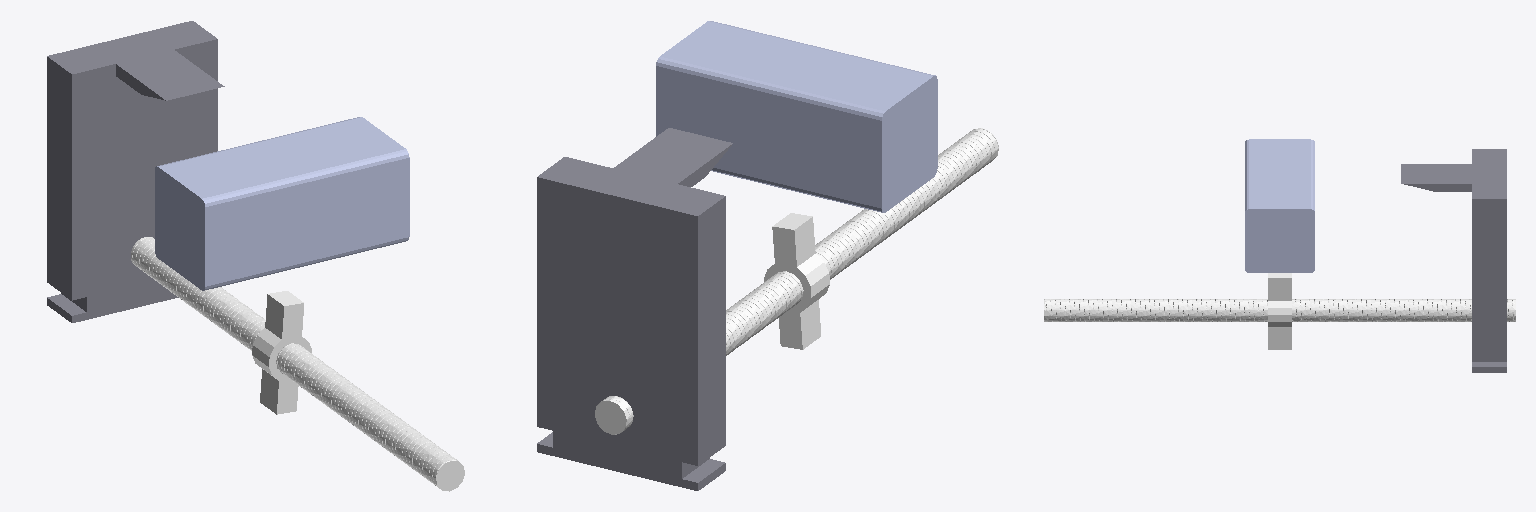
The robot description file, URDF, robot "solidworks2ros_try17":
<?xml version="1.0" encoding="utf-8"?>
<!-- This URDF was automatically created by SolidWorks to URDF Exporter! Originally created by [author] ([email redacted]) 
     Commit Version: 1.6.0-4-g7f85cfe  Build Version: 1.6.7995.38578
     For more information, please see http://wiki.ros.org/sw_urdf_exporter -->
<robot
  name="solidworks2ros_try17">

   <link name="dummy"> 
  </link>

  <joint name="dummy_joint" type="fixed">
     <parent link="dummy"/>
     <child link="base_link"/>
  </joint>

  <link
    name="base_link">
    <inertial>
      <origin
        xyz="-1.11022302462516E-16 -9.99200722162641E-16 -0.268065776195721"
        rpy="0 0 0" />
      <mass
        value="675.676354015462" />
      <inertia
        ixx="2906.45536818695"
        ixy="-2.49082720609635E-13"
        ixz="2.24838349026209E-15"
        iyy="171.801722309838"
        iyz="-5.28275357644749E-14"
        izz="2995.67094438191" />
    </inertial>
    <visual>
      <origin
        xyz="0 0 0"
        rpy="0 0 0" />
      <geometry>
        <mesh
          filename="package://solidworks2ros_try17/meshes/base_link.STL" />
      </geometry>
      <material
        name="">
        <color
          rgba="1 0.72156862745098 0.329411764705882 1" />
      </material>
    </visual>
    <collision>
      <origin
        xyz="0 0 0"
        rpy="0 0 0" />
      <geometry>
        <mesh
          filename="package://solidworks2ros_try17/meshes/base_link.STL" />
      </geometry>
    </collision>
  </link>

  <link
    name="link_1">
    <inertial>
      <origin
        xyz="1.0193E-06 -1.4866E-05 2.0052E-06"
        rpy="0 0 0" />
      <mass
        value="295.71" />
      <inertia
        ixx="555.34"
        ixy="0.0012762"
        ixz="-0.17546"
        iyy="4.9602"
        iyz="-0.0015905"
        izz="553.01" />
    </inertial>
    <visual>
      <origin
        xyz="0 0 0"
        rpy="0 0 0" />
      <geometry>
        <mesh
          filename="package://solidworks2ros_try17/meshes/link_1.STL" />
      </geometry>
      <material
        name="">
        <color
          rgba="1 1 1 1" />
      </material>
    </visual>
    <collision>
      <origin
        xyz="0 0 0"
        rpy="0 0 0" />
      <geometry>
        <mesh
          filename="package://solidworks2ros_try17/meshes/link_1.STL" />
      </geometry>
    </collision>
  </link>

  <joint
    name="joint_1"
    type="revolute">
    <origin
      xyz="0 0 0"
      rpy="0 0 0" />
    <parent
      link="base_link" />
    <child
      link="link_1" />
    <axis
      xyz="0 -1 0" />
    <limit
      lower="0"
      upper="100"
      effort="100"
      velocity="1" />
  </joint>

  <link
    name="link_2">
    <inertial>
      <origin
        xyz="2.22044604925031E-16 0.0144429352939528 0.639165613474218"
        rpy="0 0 0" />
      <mass
        value="996.534636276804" />
      <inertia
        ixx="366.741613587797"
        ixy="3.60078673400891"
        ixz="7.12110556160863"
        iyy="484.634007222512"
        iyz="-6.87482184498944"
        izz="150.154449883362" />
    </inertial>
    <visual>
      <origin
        xyz="0 0 0"
        rpy="0 0 0" />
      <geometry>
        <mesh
          filename="package://solidworks2ros_try17/meshes/link_2.STL" />
      </geometry>
      <material
        name="">
        <color
          rgba="0.588235294117647 0.588235294117647 0.631372549019608 1" />
      </material>
    </visual>
    <collision>
      <origin
        xyz="0 0 0"
        rpy="0 0 0" />
      <geometry>
        <mesh
          filename="package://solidworks2ros_try17/meshes/link_2.STL" />
      </geometry>
    </collision>
  </link>

  <joint
    name="joint_2"
    type="prismatic">
    <origin
      xyz="0 -2.2564 0"
      rpy="0 0 0" />
    <parent
      link="base_link" />
    <child
      link="link_2" />
    <axis
      xyz="0 1 0" />
    <limit
      lower="0"
      upper="10"
      effort="100"
      velocity="1" />
  </joint>

  <link
    name="link_3">
    <inertial>
      <origin
        xyz="0 -0.0143985408616085 0.642375615028398"
        rpy="0 0 0" />
      <mass
        value="999.607210776804" />
      <inertia
        ixx="386.547695985805"
        ixy="2.4282050627856E-15"
        ixz="-6.57816182881792E-14"
        iyy="498.186262065348"
        iyz="13.5466883744118"
        izz="150.677790337302" />
    </inertial>
    <visual>
      <origin
        xyz="0 0 0"
        rpy="0 0 0" />
      <geometry>
        <mesh
          filename="package://solidworks2ros_try17/meshes/link_3.STL" />
      </geometry>
      <material
        name="">
        <color
          rgba="0.588235294117647 0.588235294117647 0.631372549019608 1" />
      </material>
    </visual>
    <collision>
      <origin
        xyz="0 0 0"
        rpy="0 0 0" />
      <geometry>
        <mesh
          filename="package://solidworks2ros_try17/meshes/link_3.STL" />
      </geometry>
    </collision>
  </link>

  <joint
    name="joint_3"
    type="prismatic">
    <origin
      xyz="0 2.2564 0"
      rpy="0 0 0" />
    <parent
      link="base_link" />
    <child
      link="link_3" />
    <axis
      xyz="0 -1 0" />
    <limit
      lower="0"
      upper="10"
      effort="100"
      velocity="1" />
  </joint>

  <link
    name="link_4">
    <inertial>
      <origin
        xyz="-1.11022302462516E-16 2.22044604925031E-16 -2.22044604925031E-16"
        rpy="0 0 0" />
      <mass
        value="1028.44633468537" />
      <inertia
        ixx="98.8309213718163"
        ixy="-9.17043371924331E-15"
        ixz="-1.05431440607292E-14"
        iyy="320.349705910866"
        iyz="1.89735641605437E-15"
        izz="320.349705910866" />
    </inertial>
    <visual>
      <origin
        xyz="0 0 0"
        rpy="0 0 0" />
      <geometry>
        <mesh
          filename="package://solidworks2ros_try17/meshes/link_4.STL" />
      </geometry>
      <material
        name="">
        <color
          rgba="0.792156862745098 0.819607843137255 0.933333333333333 1" />
      </material>
    </visual>
    <collision>
      <origin
        xyz="0 0 0"
        rpy="0 0 0" />
      <geometry>
        <mesh
          filename="package://solidworks2ros_try17/meshes/link_4.STL" />
      </geometry>
    </collision>
  </link>
  <joint
    name="joint_4"
    type="prismatic">
    <origin
      xyz="0 0 1.23825"
      rpy="0 0 0" />
    <parent
      link="base_link" />
    <child
      link="link_4" />
    <axis
      xyz="0 0 1" />
    <limit
      lower="0"
      upper="10"
      effort="100"
      velocity="0.5" />
  </joint>

<!-- Position Contoller -->
<transmission name ="trans_1">
    <type>transmission_interface/SimpleTransmission</type>
    <joint name="joint_1">
        <hardwareInterface>hardware_interface/PositionJointInterface</hardwareInterface>
    </joint>
    <actuator name="motor_1">
        <hardwareInterface>hardware_interface/PositionJointInterface</hardwareInterface>
        <mechanicalReduction>1</mechanicalReduction>
    </actuator>
</transmission>

<transmission name ="trans_2">
    <type>transmission_interface/SimpleTransmission</type>
    <joint name="joint_2">
        <hardwareInterface>hardware_interface/PositionJointInterface</hardwareInterface>
    </joint>
    <actuator name="motor_2">
        <hardwareInterface>hardware_interface/PositionJointInterface</hardwareInterface>
        <mechanicalReduction>1</mechanicalReduction>
    </actuator>
</transmission>

<transmission name ="trans_3">
    <type>transmission_interface/SimpleTransmission</type>
    <joint name="joint_3">
        <hardwareInterface>hardware_interface/PositionJointInterface</hardwareInterface>
    </joint>
    <actuator name="motor_3">
        <hardwareInterface>hardware_interface/PositionJointInterface</hardwareInterface>
        <mechanicalReduction>1</mechanicalReduction>
    </actuator>
</transmission>

<transmission name ="trans_4">
    <type>transmission_interface/SimpleTransmission</type>
    <joint name="joint_4">
        <hardwareInterface>hardware_interface/PositionJointInterface</hardwareInterface>
    </joint>
    <actuator name="motor_4">
        <hardwareInterface>hardware_interface/PositionJointInterface</hardwareInterface>
        <mechanicalReduction>1</mechanicalReduction>
    </actuator>
</transmission>

<!-- Gazebo controller -->
<gazebo>
    <plugin name="control" filename="libgazebo_ros_control.so"/>
</gazebo>
  
<!-- Gazebo visual interface for the links-->
<gazebo reference="base_link">
    <material>Gazebo/Orange</material>
</gazebo>

<gazebo reference="link_1">
    <material>Gazebo/White</material>
</gazebo>

<gazebo reference="link_2">
    <material>Gazebo/Gray</material>
</gazebo>

<gazebo reference="link_3">
    <material>Gazebo/Gray</material>
</gazebo>


</robot>

--- What the picture shows (computed from the rendered views, not written in the file) ---
3 views of the same robot in one strip: view 1: azimuth 30°, elevation 25°; view 2: azimuth 150°, elevation 25°; view 3: azimuth 270°, elevation 25° (orthographic).
Robot: solidworks2ros_try17 — 6 links, 5 joints (1 revolute, 3 prismatic, 1 fixed); root link dummy; default pose: all joints at 0.
Visible links, largest first — view 1: link_3, link_4, link_1; view 2: link_3, link_4, link_1; view 3: link_1, link_3, link_4.
Boxes of the visible links, box(x1,y1,x2,y2) form: link_3: box(47, 21, 224, 322); link_4: box(155, 117, 409, 290); link_1: box(131, 237, 464, 491); link_3: box(537, 128, 732, 490); link_4: box(656, 21, 937, 212); link_1: box(595, 128, 998, 434); link_1: box(1044, 273, 1515, 349); link_3: box(1401, 149, 1506, 372); link_4: box(1245, 139, 1314, 272).
Size in the robot's own frame: 1.78 by 5.08 by 2.08 metres.
Meshes: 5 distinct files referenced, 3 mesh visuals loaded (3 binary STL); not drawn: 2 (reference not matched to a file when rendering).
